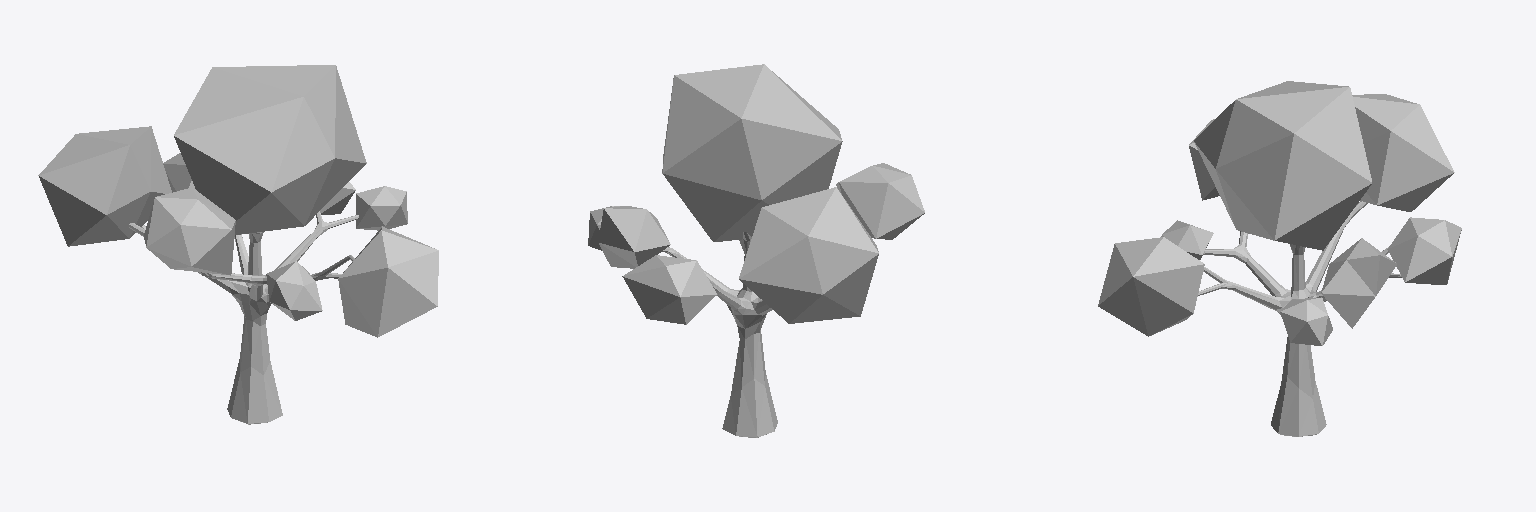
File: tree.obj
3 views of the same model, side by side, from view 1: azimuth 30°, elevation 25°; view 2: azimuth 150°, elevation 25°; view 3: azimuth 270°, elevation 25° (orthographic).
Parts seen in each view (by area): view 1: Cube_Cube.001; view 2: Cube_Cube.001; view 3: Cube_Cube.001.
Part boxes in pixels (left/top/right/bottom): Cube_Cube.001: left=38, top=65, right=438, bottom=424; Cube_Cube.001: left=588, top=64, right=924, bottom=437; Cube_Cube.001: left=1098, top=81, right=1461, bottom=436.
Bounding box in the file's own units: 24.24 × 23.85 × 23.25.